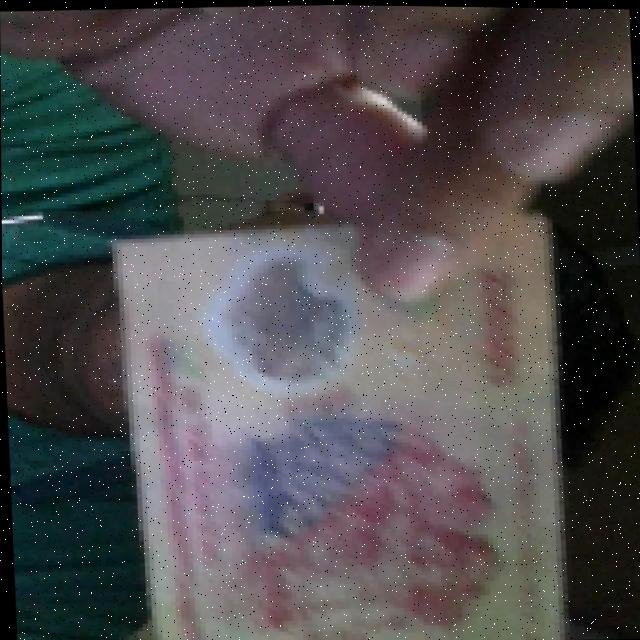200 000 VND: (108, 187, 577, 640)
